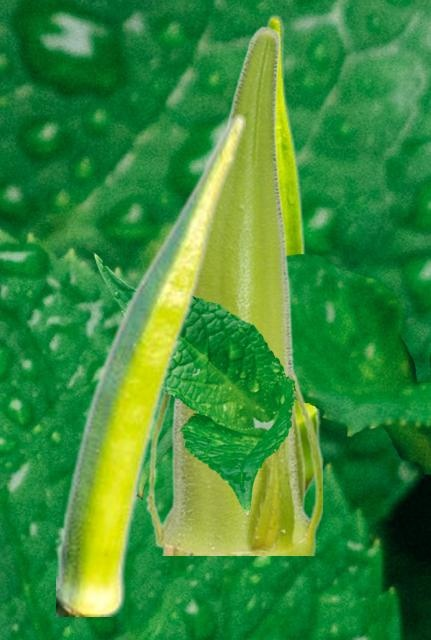okra: (56, 112, 244, 615), (143, 25, 321, 554), (264, 14, 323, 496)
